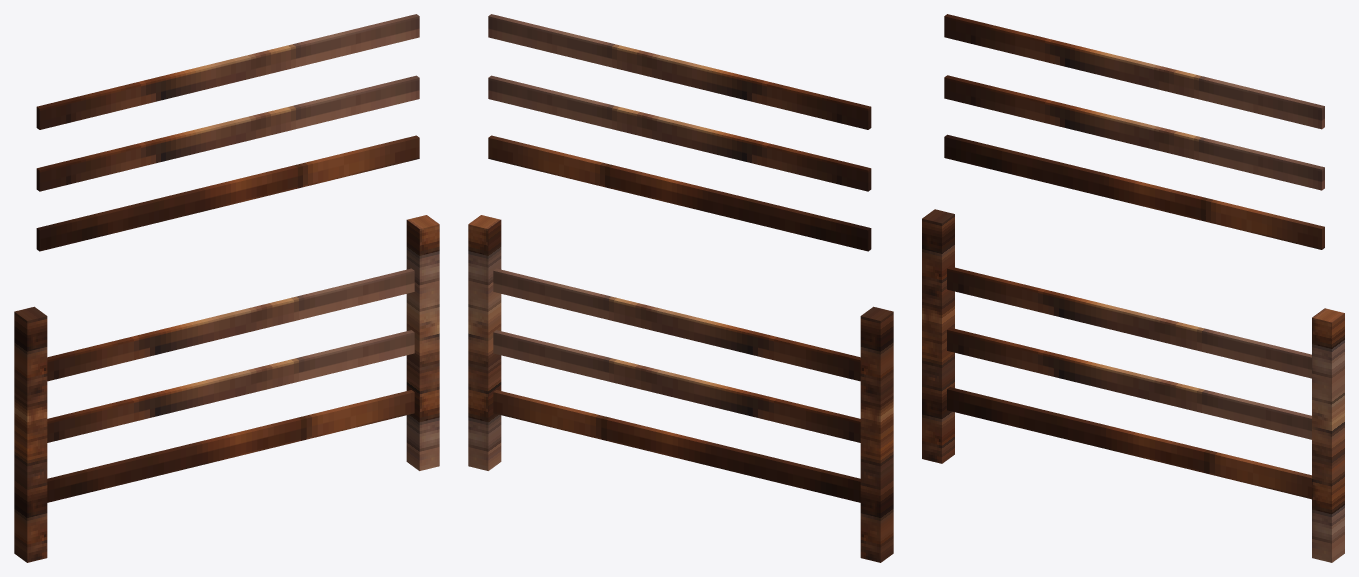
File: Wooden_Fence_New.fbx
3 views of the same model, side by side, from view 1: azimuth 30°, elevation 25°; view 2: azimuth 150°, elevation 25°; view 3: azimuth 330°, elevation 25° (orthographic).
Parts seen in each view (by area): view 1: Fence_Posts, Fence_Boards; view 2: Fence_Posts, Fence_Boards; view 3: Fence_Posts, Fence_Boards.
Part boxes in pixels (box(x1,y1,x2,y2)): Fence_Posts: box(14, 215, 439, 562); Fence_Boards: box(36, 14, 419, 251); Fence_Posts: box(468, 215, 893, 562); Fence_Boards: box(488, 14, 871, 251); Fence_Posts: box(922, 209, 1344, 562); Fence_Boards: box(944, 14, 1324, 249).
Bounding box in the file's own units: 611 × 637 × 33.19.
